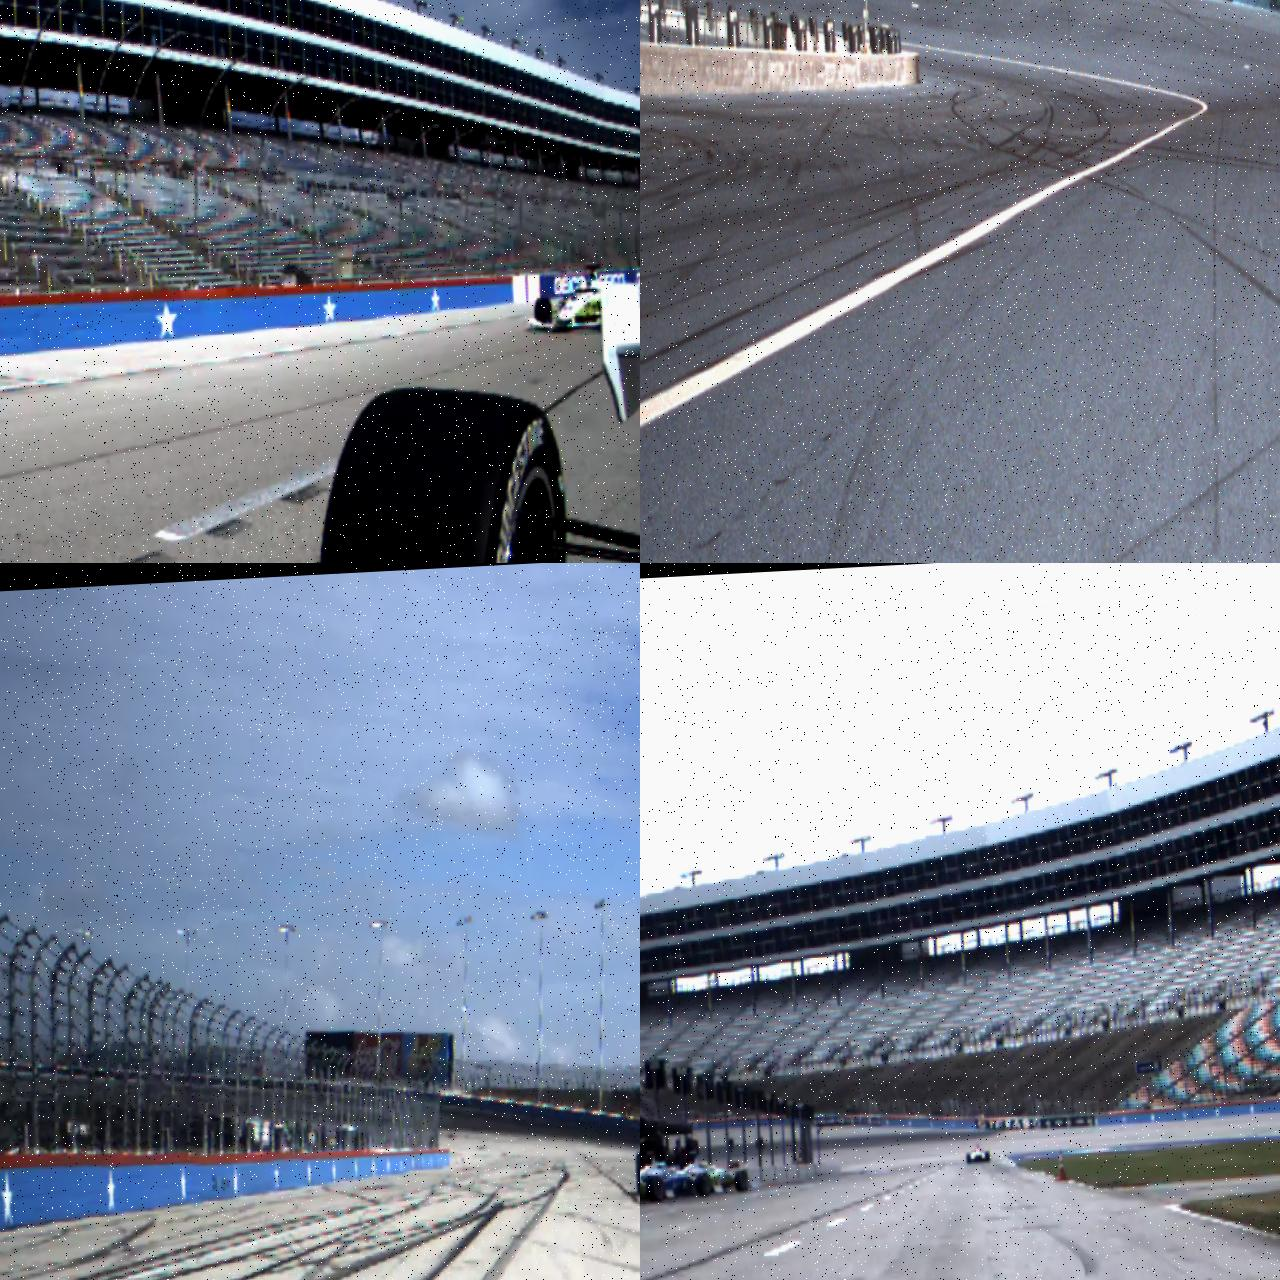AV: (525, 260, 640, 334), (640, 1142, 665, 1211), (965, 1143, 990, 1164)
Wheel: (309, 377, 572, 563), (535, 297, 552, 329), (645, 1175, 663, 1203), (695, 1172, 712, 1198), (734, 1170, 749, 1192), (966, 1151, 971, 1164), (985, 1151, 989, 1162)
